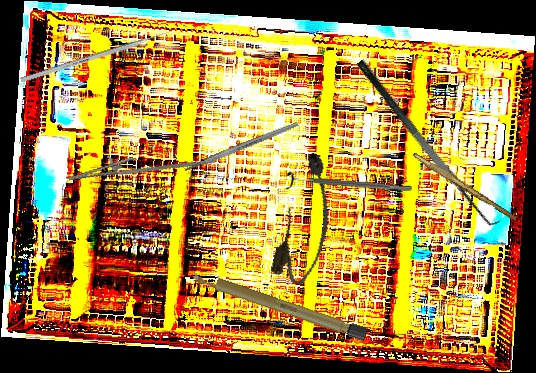Cannula: (268, 150, 346, 288)
Fixation Ring: (284, 170, 413, 199)
Needle Holder: (64, 129, 216, 200)
Pusher: (20, 26, 179, 84)
Scalpel Handle: (189, 267, 369, 342), (410, 152, 519, 222), (183, 120, 300, 174)
Spatula Surgical: (354, 48, 506, 235)
